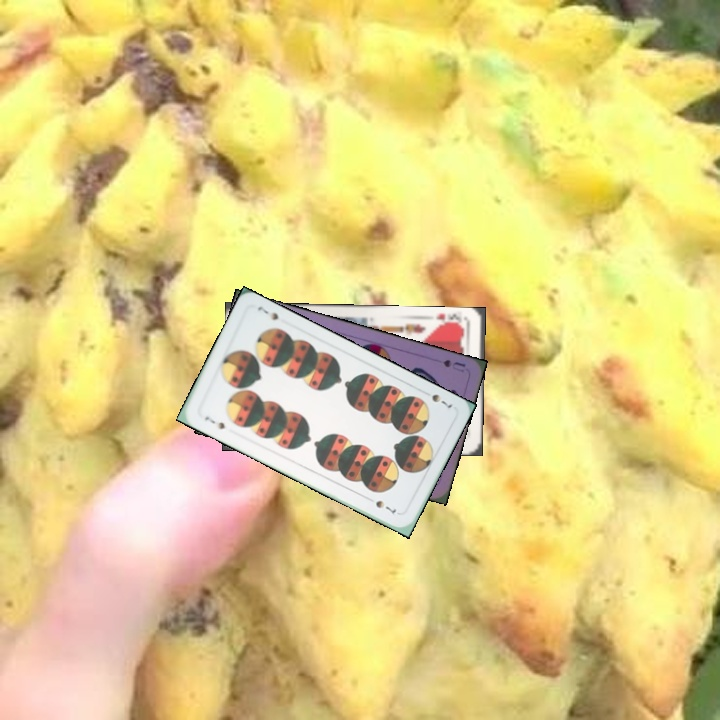HK: (431, 310, 469, 330)
S7: (418, 387, 455, 411), (200, 412, 227, 432)
SU: (439, 355, 468, 375)
